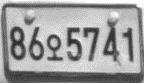1: (121, 25, 134, 62)
4: (102, 26, 120, 61)
5: (65, 26, 83, 61)
6: (27, 25, 45, 61)
7: (82, 26, 99, 62)
8: (9, 26, 27, 60)
오: (45, 33, 63, 61)
